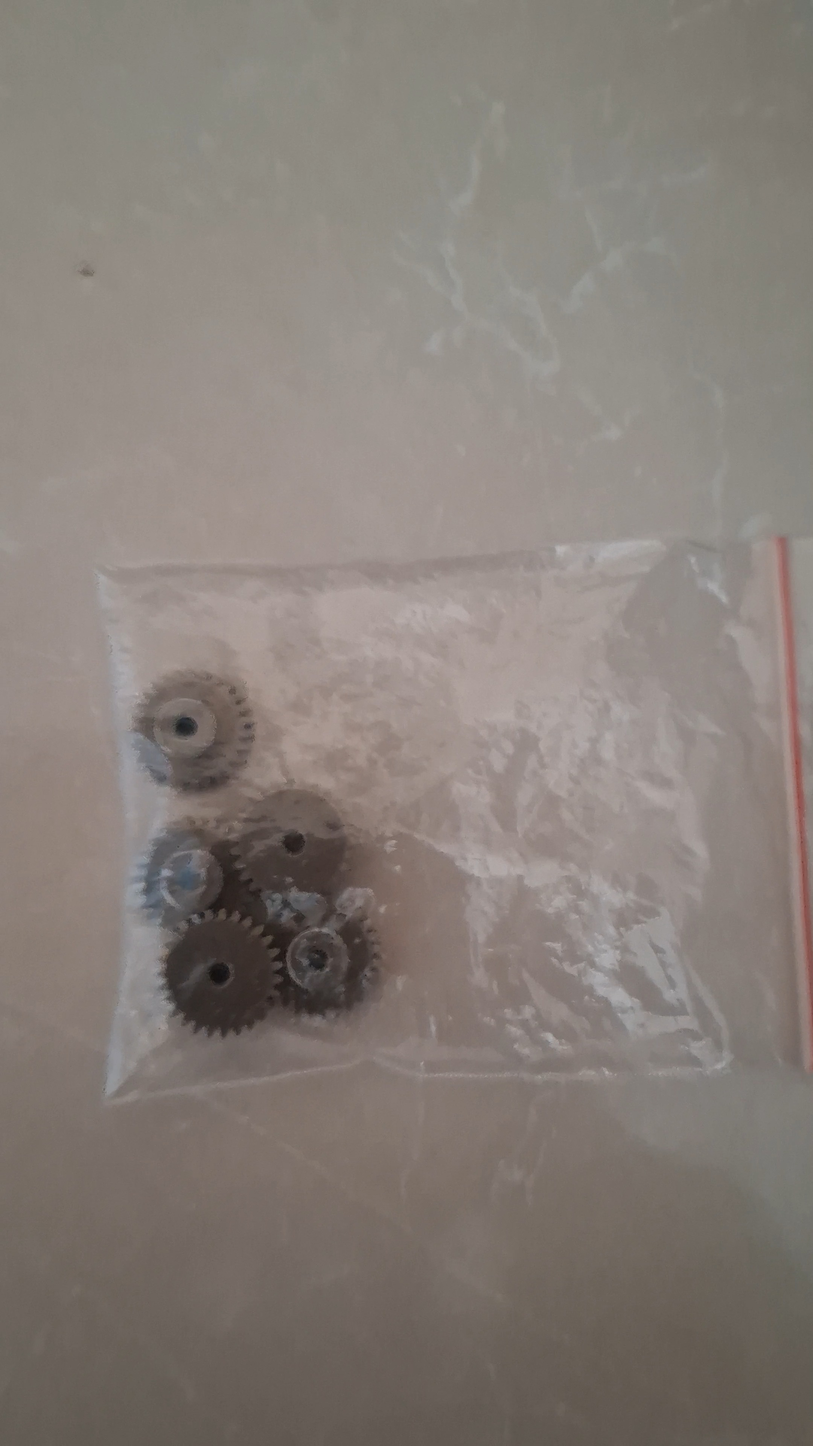spur gear: (163, 909, 278, 1036), (133, 672, 254, 791), (235, 789, 346, 894), (283, 917, 379, 1013), (142, 824, 223, 927), (212, 838, 269, 929)
